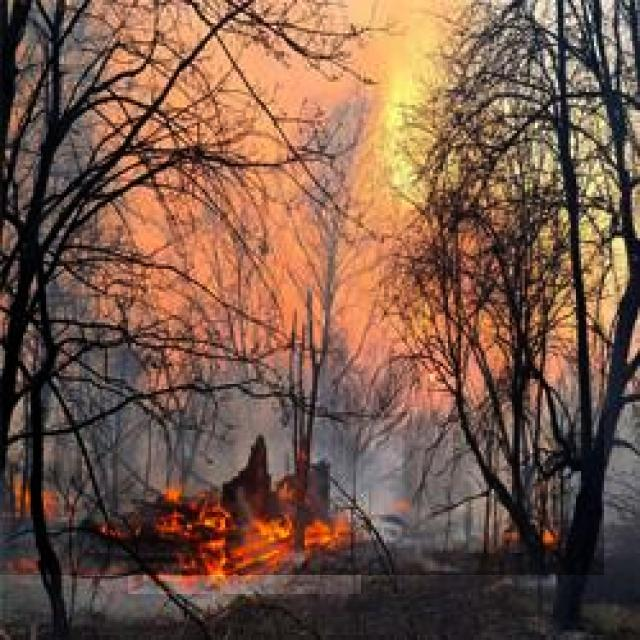Fire: (128, 464, 361, 594)
Smoke: (0, 0, 604, 575)
